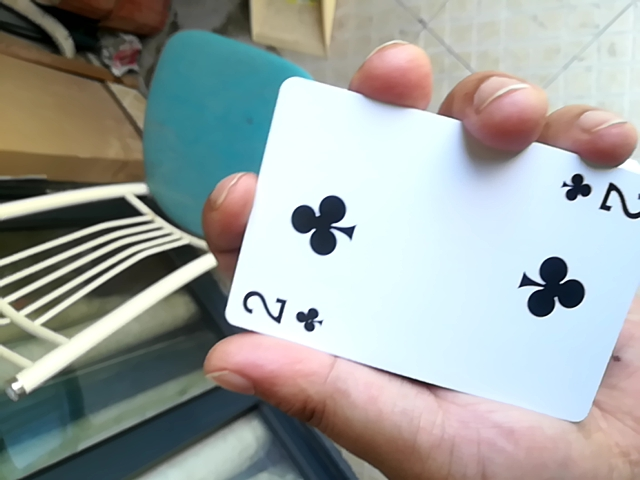mh 2: (197, 79, 631, 415)
